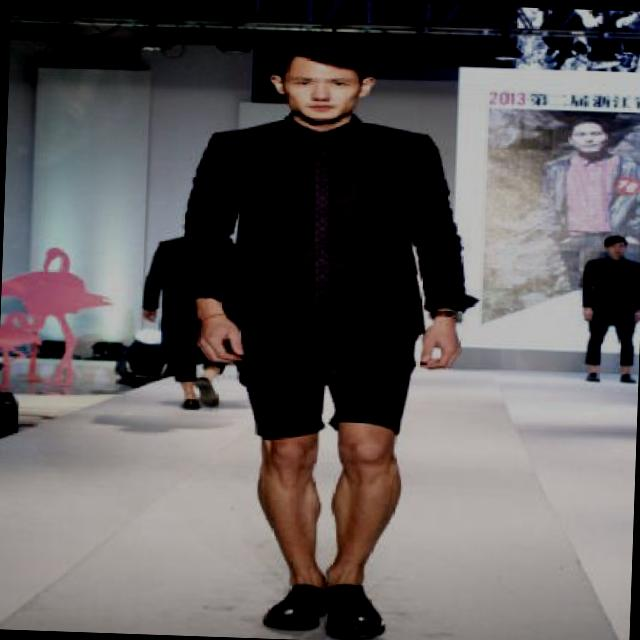Person: (123, 13, 507, 640)
